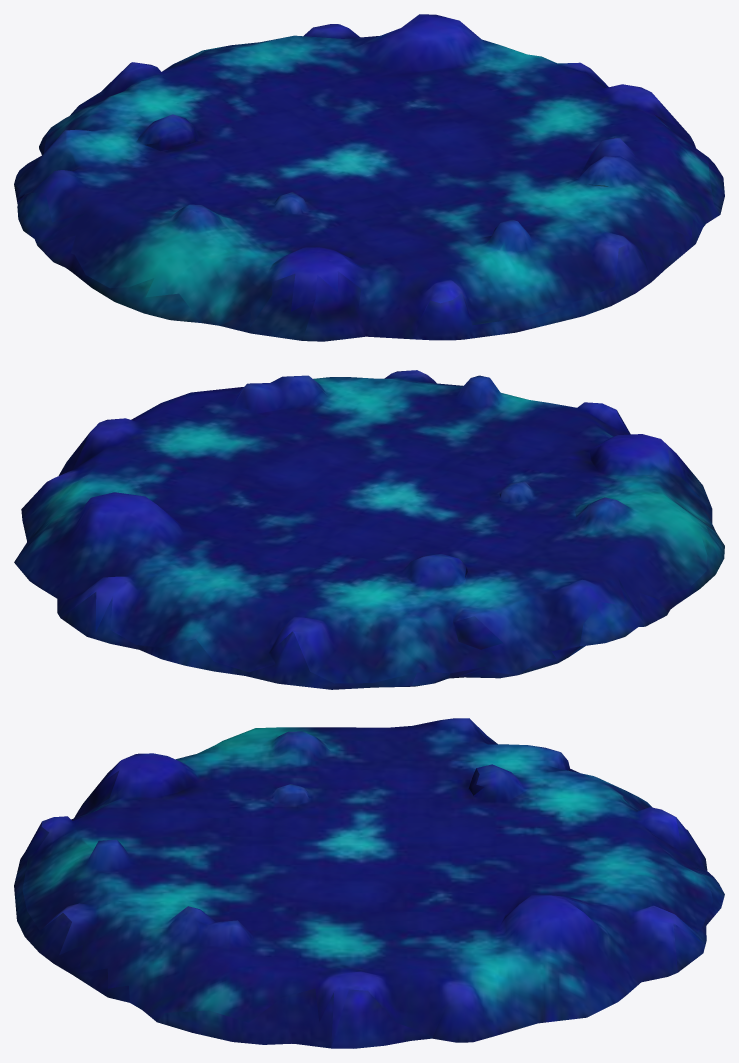
The model's file is d_mycelium_butte.glb.
The picture shows the model from 3 angles, top to bottom: view 1: azimuth 30°, elevation 25°; view 2: azimuth 150°, elevation 25°; view 3: azimuth 270°, elevation 25°; orthographic projection.
Visible parts, largest first — view 1: geometry_0; view 2: geometry_0; view 3: geometry_0.
Boxes of the visible parts, <box> form: geometry_0: <box>14,14,724,341</box>; geometry_0: <box>14,370,724,689</box>; geometry_0: <box>14,718,724,1048</box>.
Bounding box in the file's own units: 0.9986 × 0.1152 × 1.
1 material, 1 textured.
